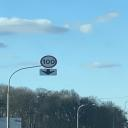speed_limit_100: (38, 54, 60, 68)
